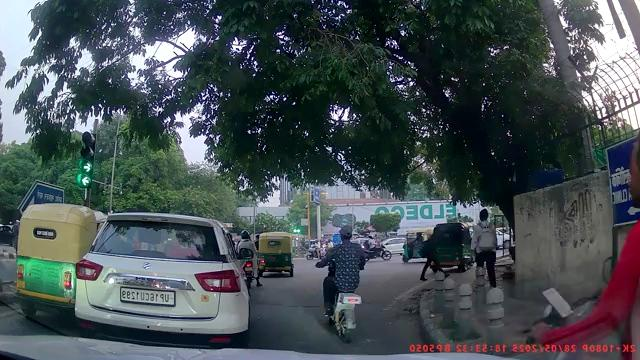motorcycle_with_helmet: (319, 225, 367, 341)
motorcycle_without_helmet: (319, 225, 367, 341)
